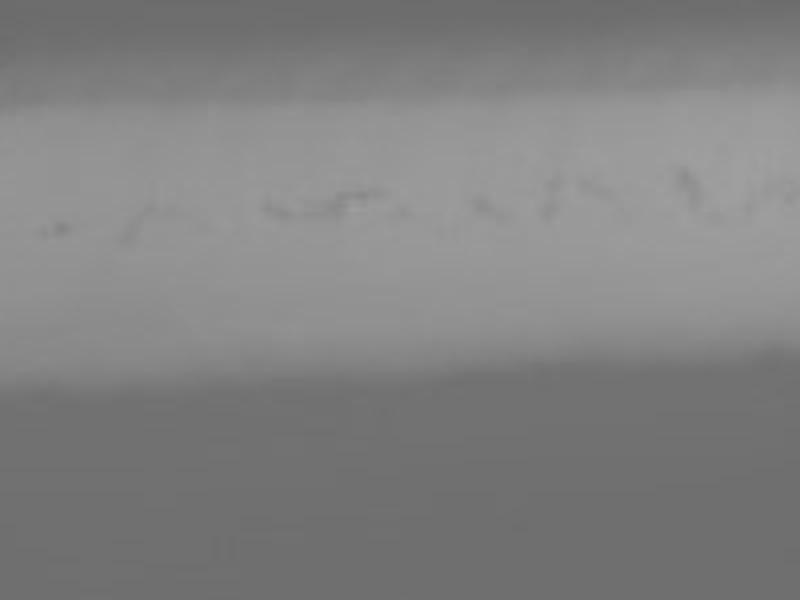defect: (539, 169, 566, 232), (680, 164, 708, 211), (468, 196, 496, 220), (53, 224, 72, 238)
